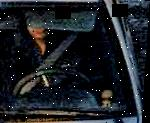seatbelt: (48, 28, 85, 67)
